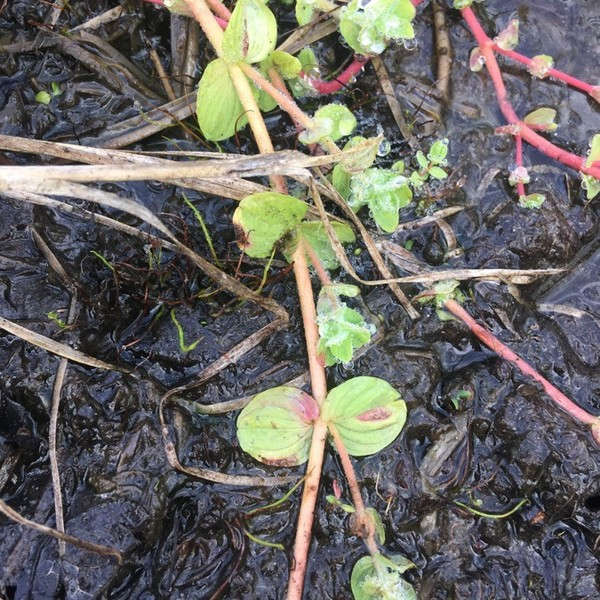obstacle: (189, 23, 459, 580)
